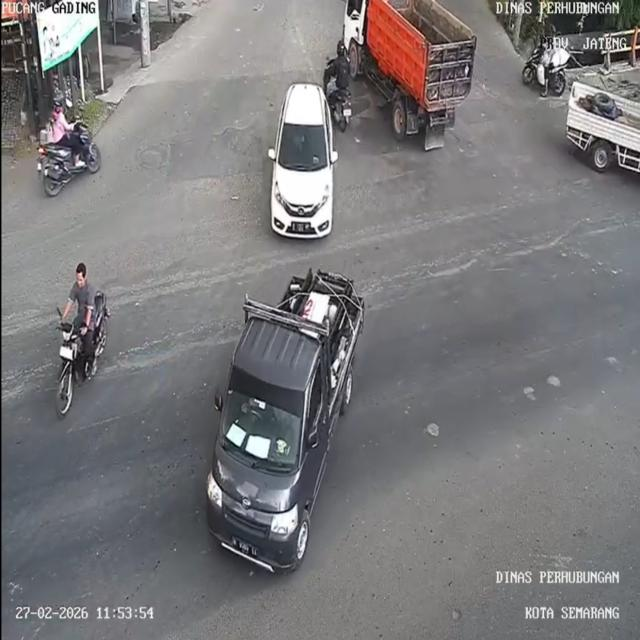motorcycle: (54, 315, 102, 416), (35, 136, 103, 197), (323, 68, 353, 132), (528, 53, 568, 98)
person: (58, 261, 95, 337), (41, 88, 81, 145), (330, 41, 354, 93)
rider_region: (50, 258, 110, 413), (36, 86, 102, 199), (322, 39, 354, 133)
